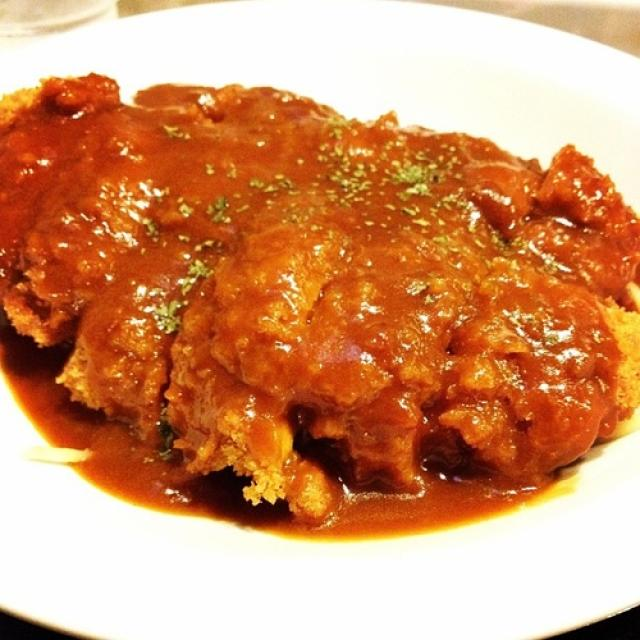鸡肉料理 含炸鸡: (8, 50, 627, 564)
